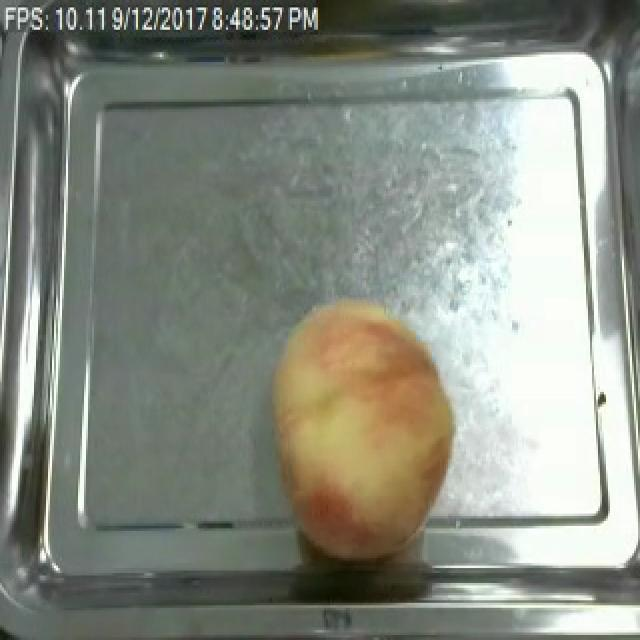Fruit: (260, 285, 466, 566)
